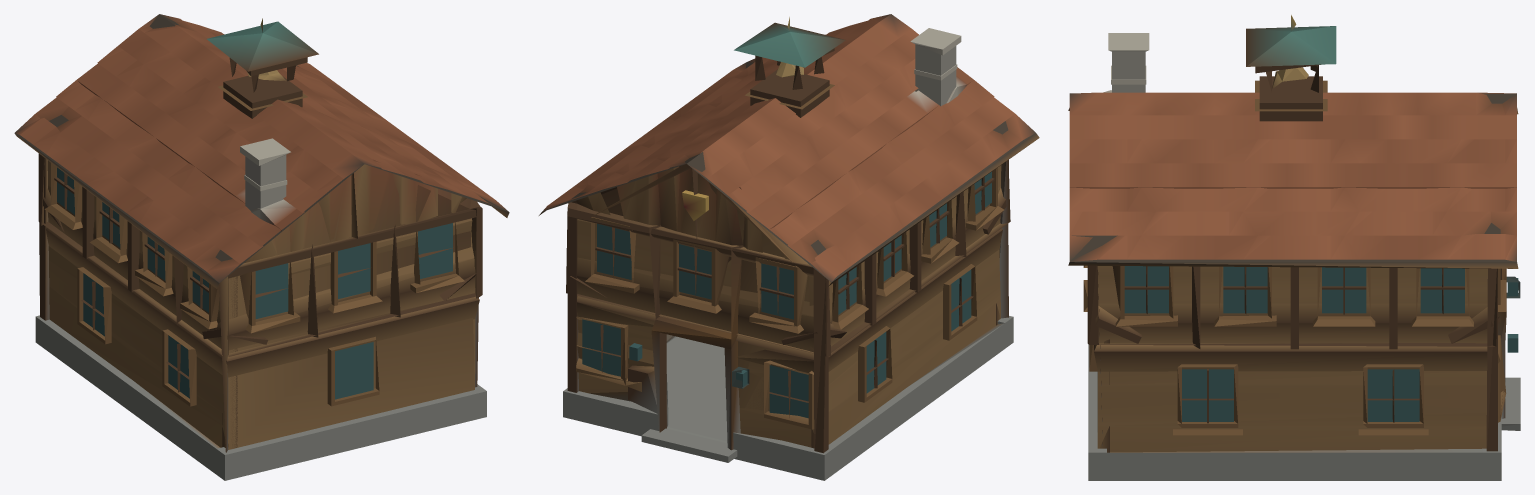
The model's file is MootHall.glb.
3 views of the same model, side by side, from view 1: azimuth 30°, elevation 25°; view 2: azimuth 150°, elevation 25°; view 3: azimuth 270°, elevation 25° (orthographic). The views are drawn at different scales.
Visible parts, largest first — view 1: MootHall_P0_LOD1, MootHallGlass_P0_LOD1; view 2: MootHall_P0_LOD1, MootHallGlass_P0_LOD1; view 3: MootHall_P0_LOD1, MootHallGlass_P0_LOD1.
Part boxes in pixels (x1,y1,x2,y2): MootHall_P0_LOD1: (14, 14, 509, 480); MootHallGlass_P0_LOD1: (57, 167, 452, 399); MootHall_P0_LOD1: (539, 14, 1039, 480); MootHallGlass_P0_LOD1: (582, 171, 991, 418); MootHall_P0_LOD1: (1068, 15, 1520, 480); MootHallGlass_P0_LOD1: (1124, 266, 1518, 421).
Size of the model in its own units: 7.19 by 8.44 by 8.72.
